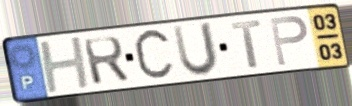C: (131, 26, 177, 85)
H: (37, 34, 94, 96)
P: (267, 14, 311, 69)
R: (80, 34, 132, 87)
T: (229, 18, 264, 71)
U: (170, 20, 221, 79)
